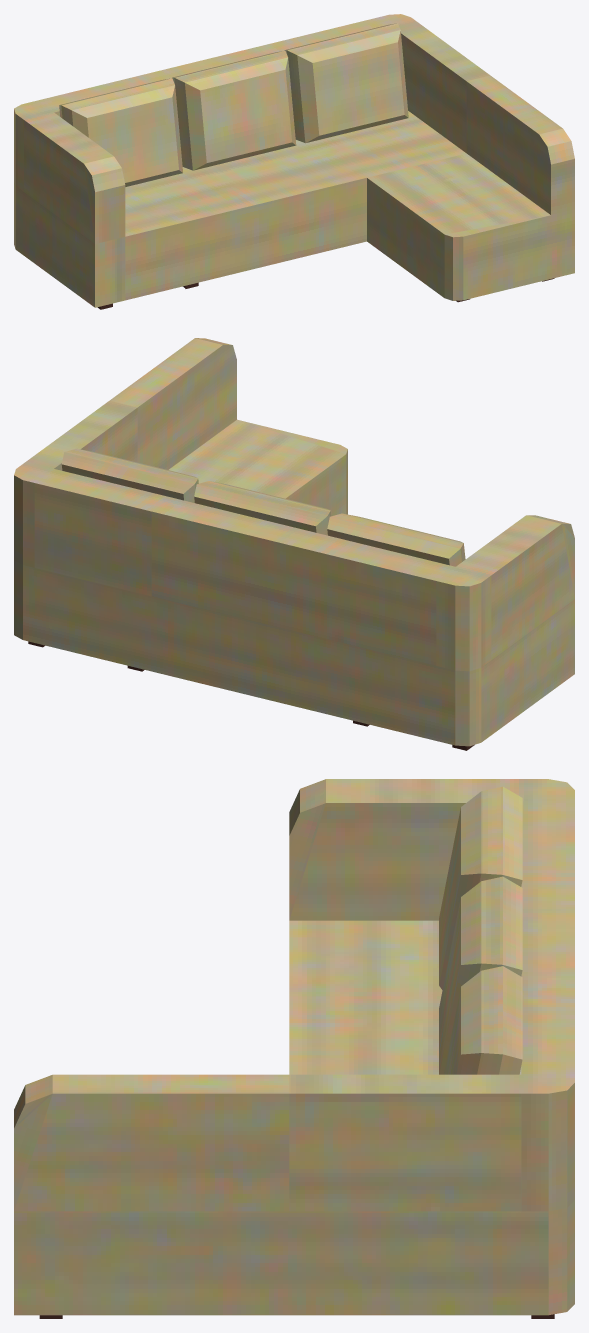
File: couch-c4-webp.glb
The picture shows the model from 3 angles, top to bottom: view 1: azimuth 30°, elevation 25°; view 2: azimuth 150°, elevation 25°; view 3: azimuth 270°, elevation 25°; orthographic projection. The views are drawn at different scales.
Parts seen in each view (by area): view 1: Couch; view 2: Couch; view 3: Couch.
Boxes of the visible parts, bbox=[...] form: Couch: bbox=[14, 14, 574, 307]; Couch: bbox=[14, 338, 574, 746]; Couch: bbox=[14, 779, 574, 1315].
Bounding box in the file's own units: 1.66 × 0.6213 × 1.25.
2 materials, 2 textured.
